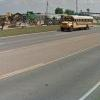Bus: (57, 9, 95, 34)
